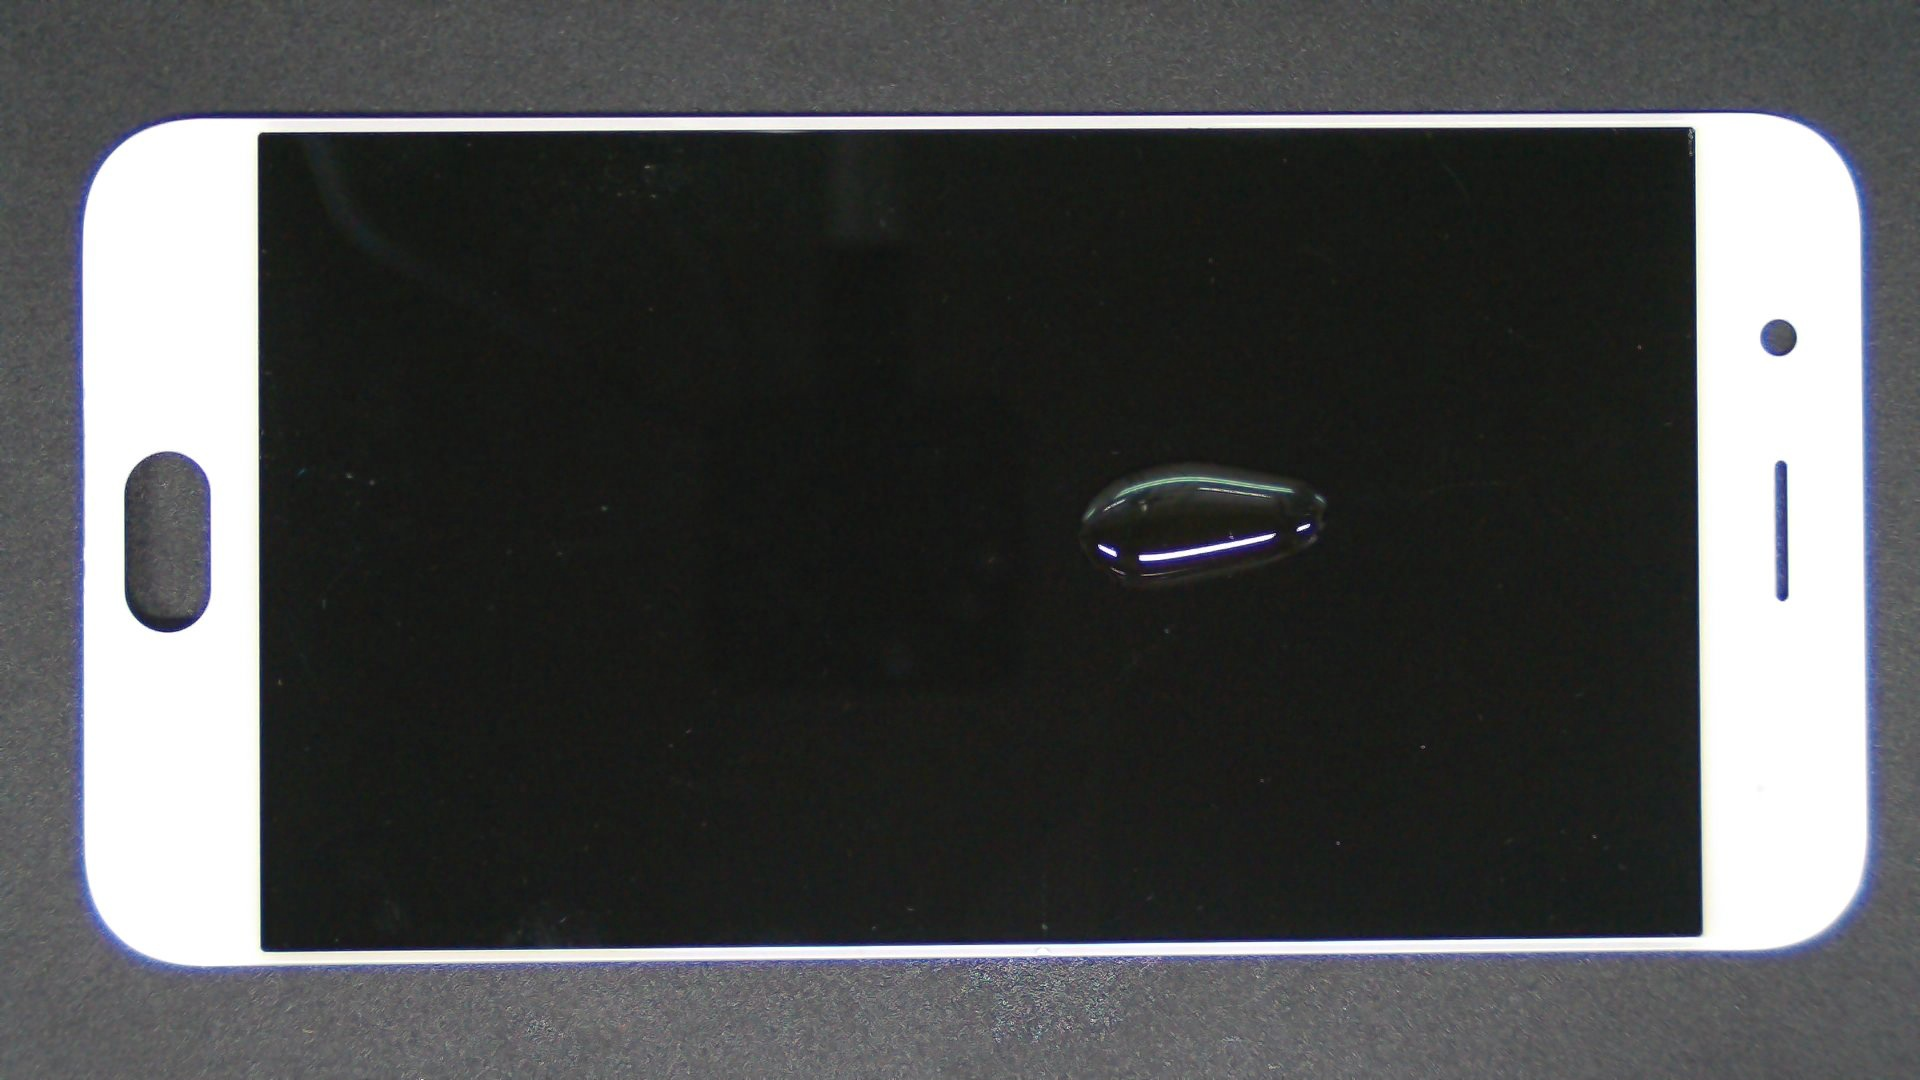oil: (593, 229, 1778, 692)
